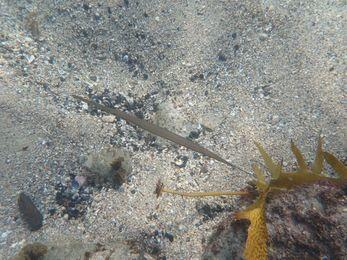Fistularia commersonii: (59, 77, 258, 179)
